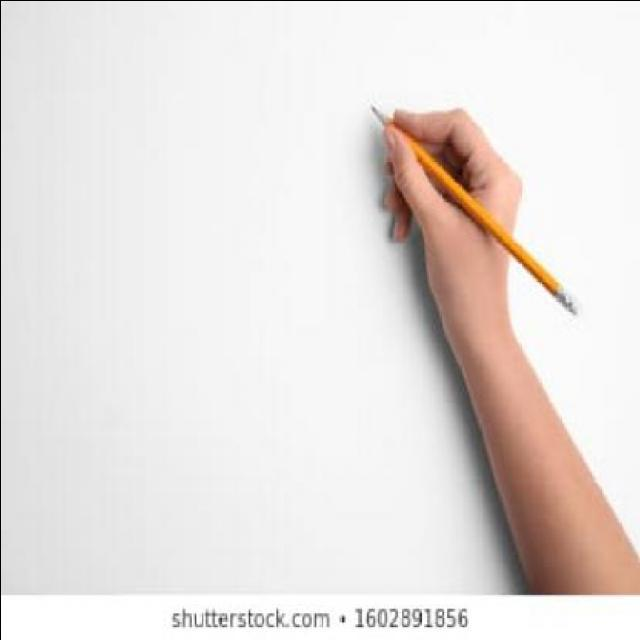pencil: (362, 88, 398, 128)
